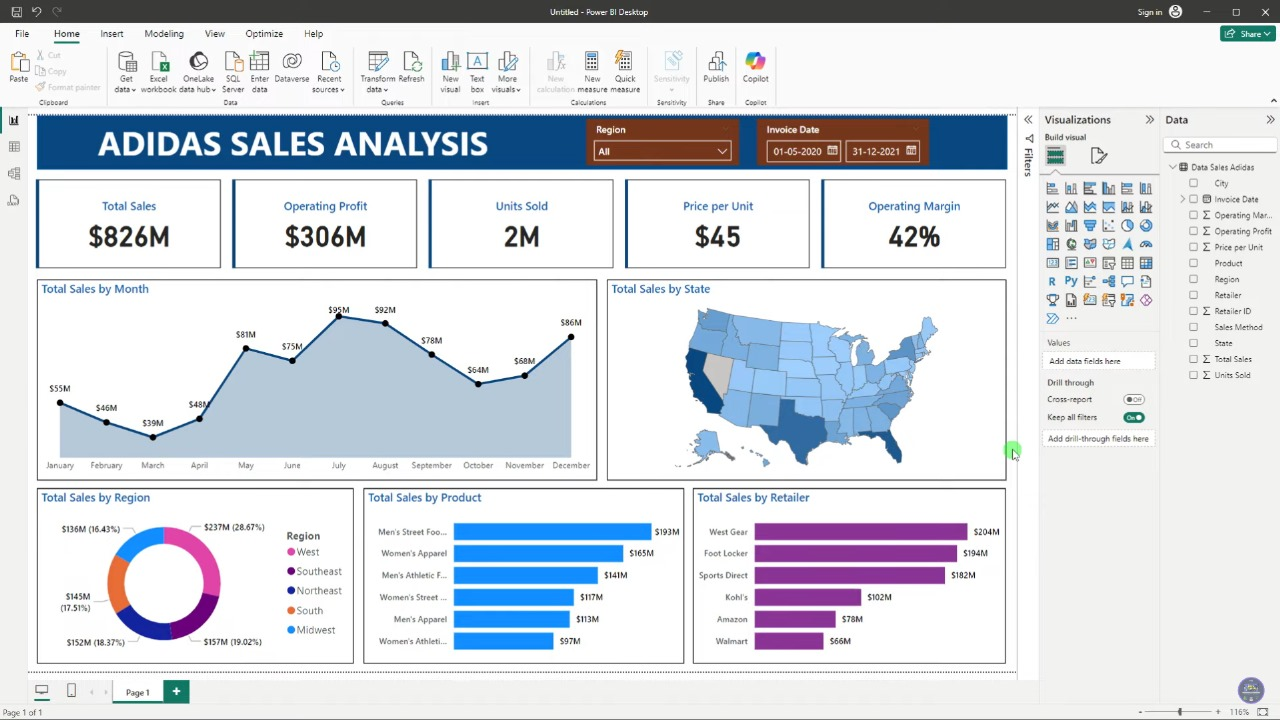

Layout of this report page (visuals, bound fields, positions):
{"tool":"powerbi","page":{"name":"Page 1","canvas":[1280,720],"ordinal":0},"visuals":[{"type":"shape","box":[13.2,0,1254.3,75.5],"z":0},{"type":"textbox","box":[13.2,0,597.4,75.5],"z":1000},{"type":"cardVisual","fields":{"Data":["Sum(Data Sales Adidas.Total Sales)","Sum(Data Sales Adidas.Operating Profit)","Sum(Data Sales Adidas.Units Sold)","Avg(Data Sales Adidas.Price per Unit)","Avg(Data Sales Adidas.Operating Margin)"]},"box":[7.1,88.6,1267.1,124.3],"z":2000},{"type":"areaChart","title":"Total Sales by Month","fields":{"Y":["Sum(Data Sales Adidas.Total Sales)"],"Category":["Data Sales Adidas.Invoice Date.Variation.Date Hierarchy.Month"]},"box":[12.9,230,725.7,260],"z":3000},{"type":"filledMap","fields":{"Category":["Data Sales Adidas.State"],"Series":["Data Sales Adidas.Total Sales"]},"box":[757.1,230,522.9,260],"z":4000},{"type":"donutChart","fields":{"Category":["Data Sales Adidas.Region"],"Y":["Sum(Data Sales Adidas.Total Sales)"]},"box":[12.9,500,410,220],"z":5000},{"type":"barChart","fields":{"Category":["Data Sales Adidas.Product"],"Y":["Sum(Data Sales Adidas.Total Sales)"]},"box":[437.1,500,412.9,220],"z":6000},{"type":"barChart","fields":{"Category":["Data Sales Adidas.Retailer"],"Y":["Sum(Data Sales Adidas.Total Sales)"]},"box":[865.7,500,401.4,220],"z":7000},{"type":"slicer","fields":{"Values":["Data Sales Adidas.Region"]},"box":[644.3,1.4,180,74.3],"z":8000},{"type":"slicer","fields":{"Values":["Data Sales Adidas.Invoice Date"]},"box":[850,0,228.6,74.3],"z":8001}]}

Visuals, with their boxes on the page's 1280x720 design canvas (x1, y1, x2, y2). These are canvas units, not pixel positions in the 1280x720 screenshot, which may show the page scaled, cropped or inside an application window:
shape: [x1=13, y1=0, x2=1268, y2=76]
textbox: [x1=13, y1=0, x2=611, y2=76]
cardVisual - Sum(Data Sales Adidas.Total Sales) x Sum(Data Sales Adidas.Operating Profit): [x1=7, y1=89, x2=1274, y2=213]
"Total Sales by Month" areaChart: [x1=13, y1=230, x2=739, y2=490]
filledMap - Data Sales Adidas.State x Data Sales Adidas.Total Sales: [x1=757, y1=230, x2=1280, y2=490]
donutChart - Data Sales Adidas.Region x Sum(Data Sales Adidas.Total Sales): [x1=13, y1=500, x2=423, y2=720]
barChart - Data Sales Adidas.Product x Sum(Data Sales Adidas.Total Sales): [x1=437, y1=500, x2=850, y2=720]
barChart - Data Sales Adidas.Retailer x Sum(Data Sales Adidas.Total Sales): [x1=866, y1=500, x2=1267, y2=720]
slicer - Data Sales Adidas.Region: [x1=644, y1=1, x2=824, y2=76]
slicer - Data Sales Adidas.Invoice Date: [x1=850, y1=0, x2=1079, y2=74]
